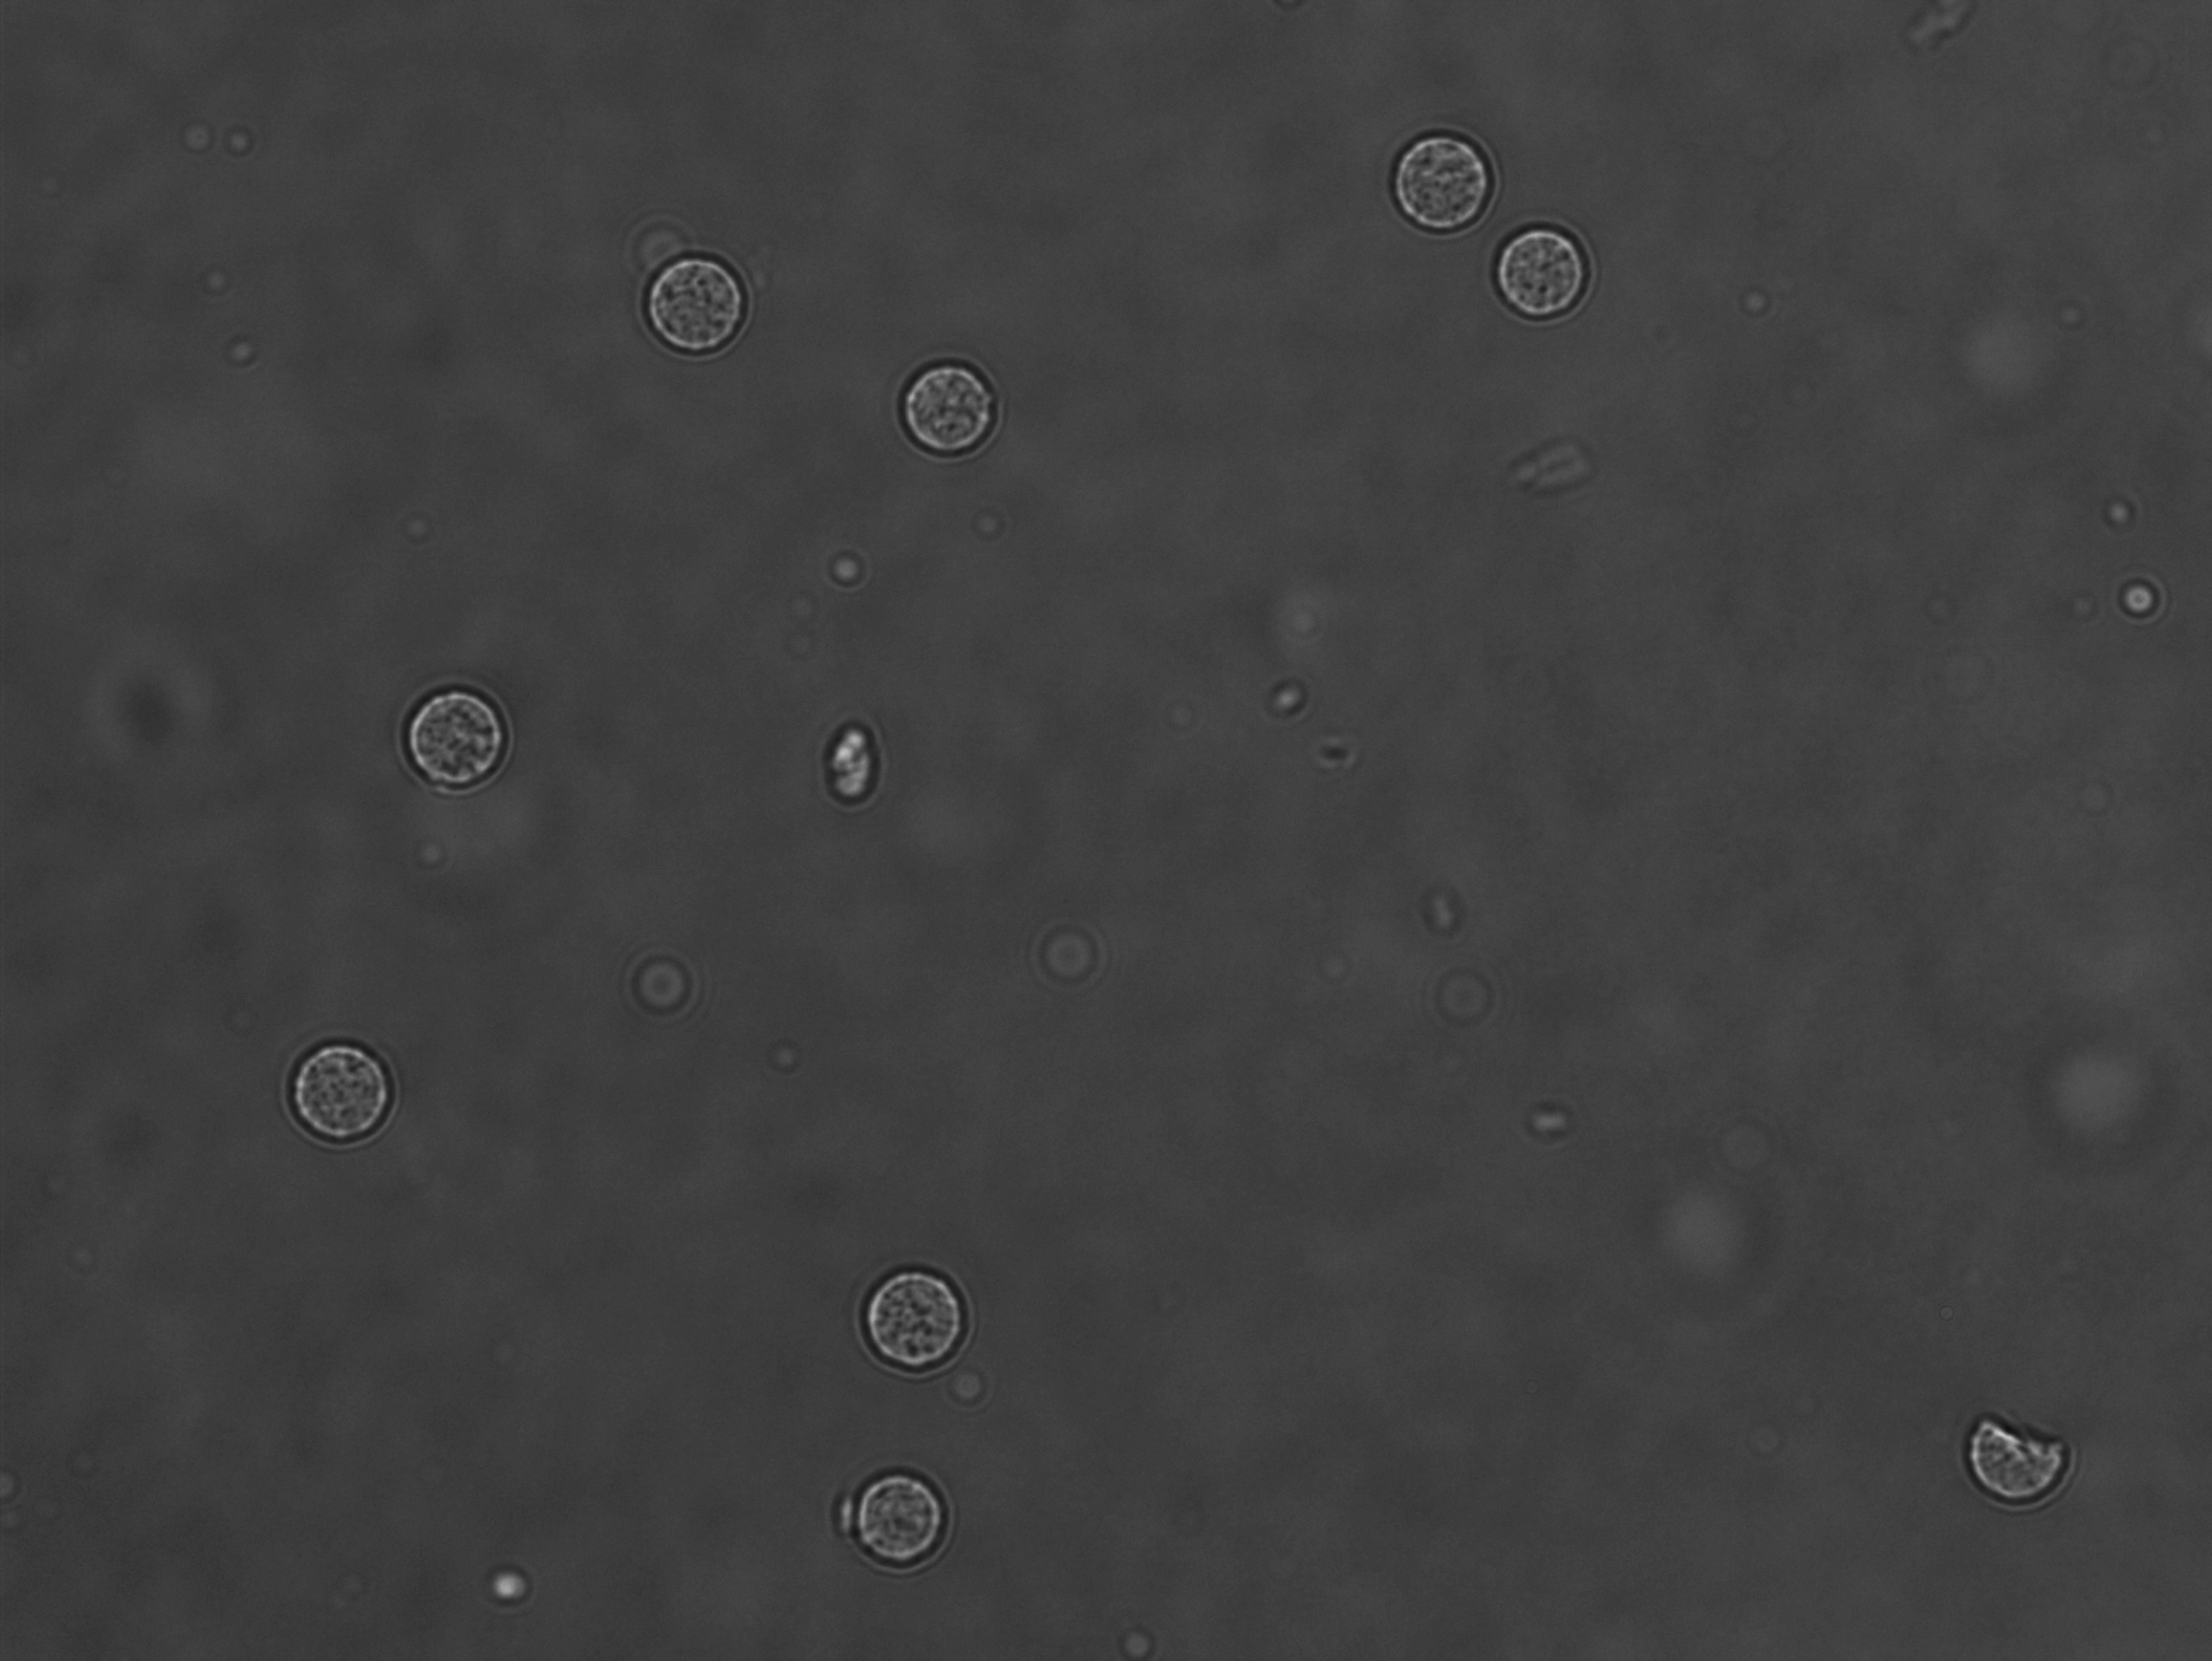depth:0: (253, 998, 424, 1164), (834, 1251, 1008, 1399), (635, 229, 790, 382), (818, 1450, 961, 1591), (393, 665, 520, 813), (1471, 211, 1605, 338), (1366, 120, 1493, 253), (881, 356, 1003, 483)
